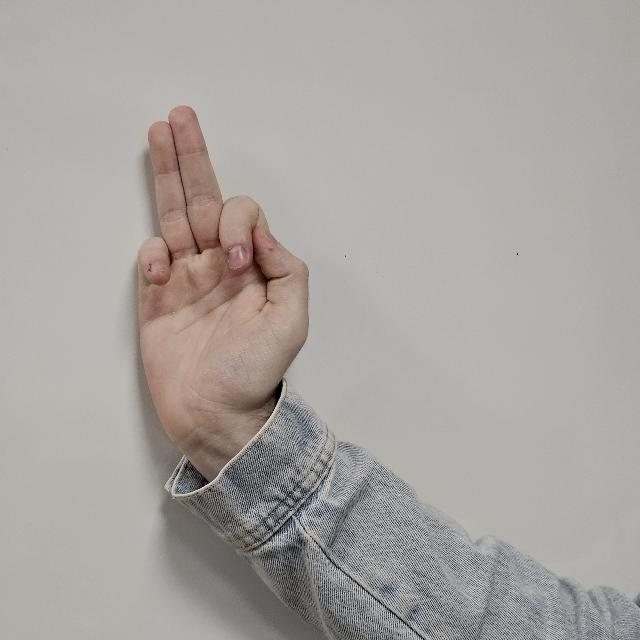R: (136, 105, 312, 468)
